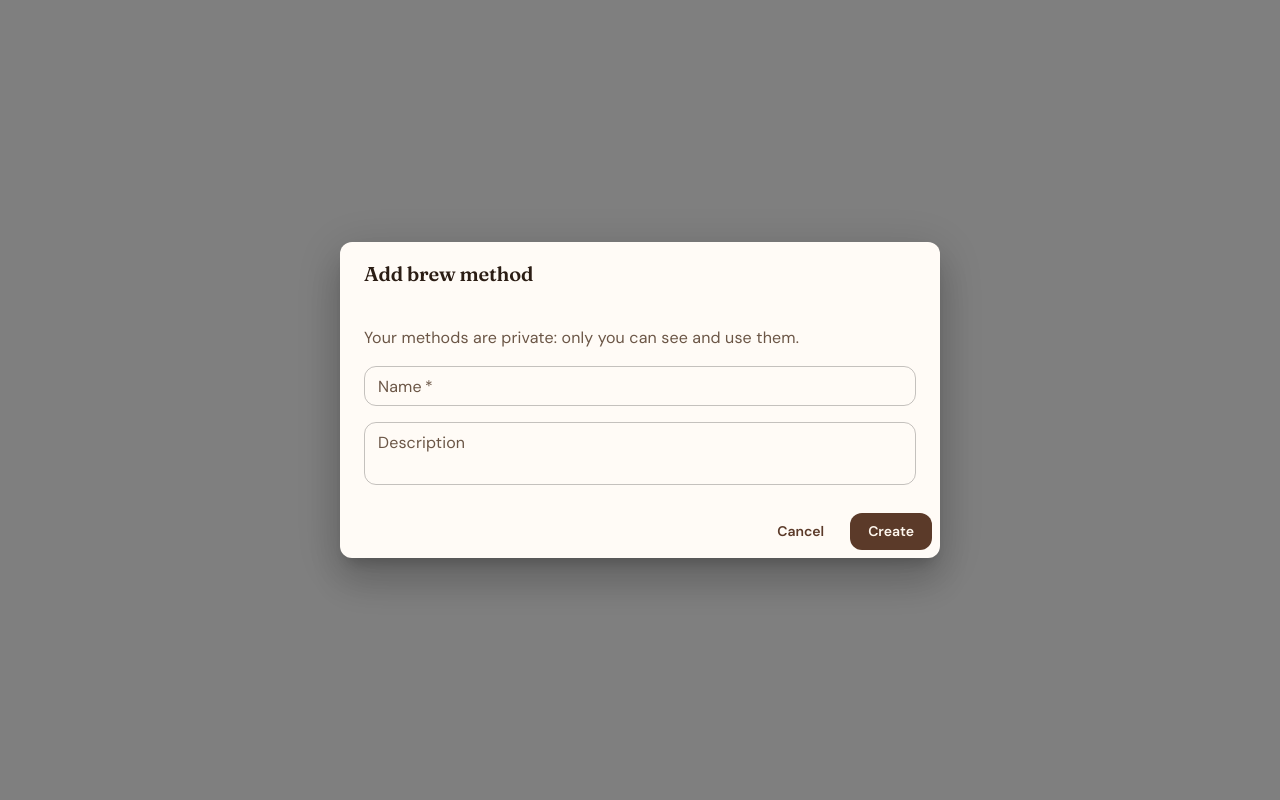
Test: BrewMethodFormDialog › shows a duplicate-name error on a 409
Step 1. Type "My Moka" into the field labelled "Name *" → (640, 386), box [364, 366, 916, 406]
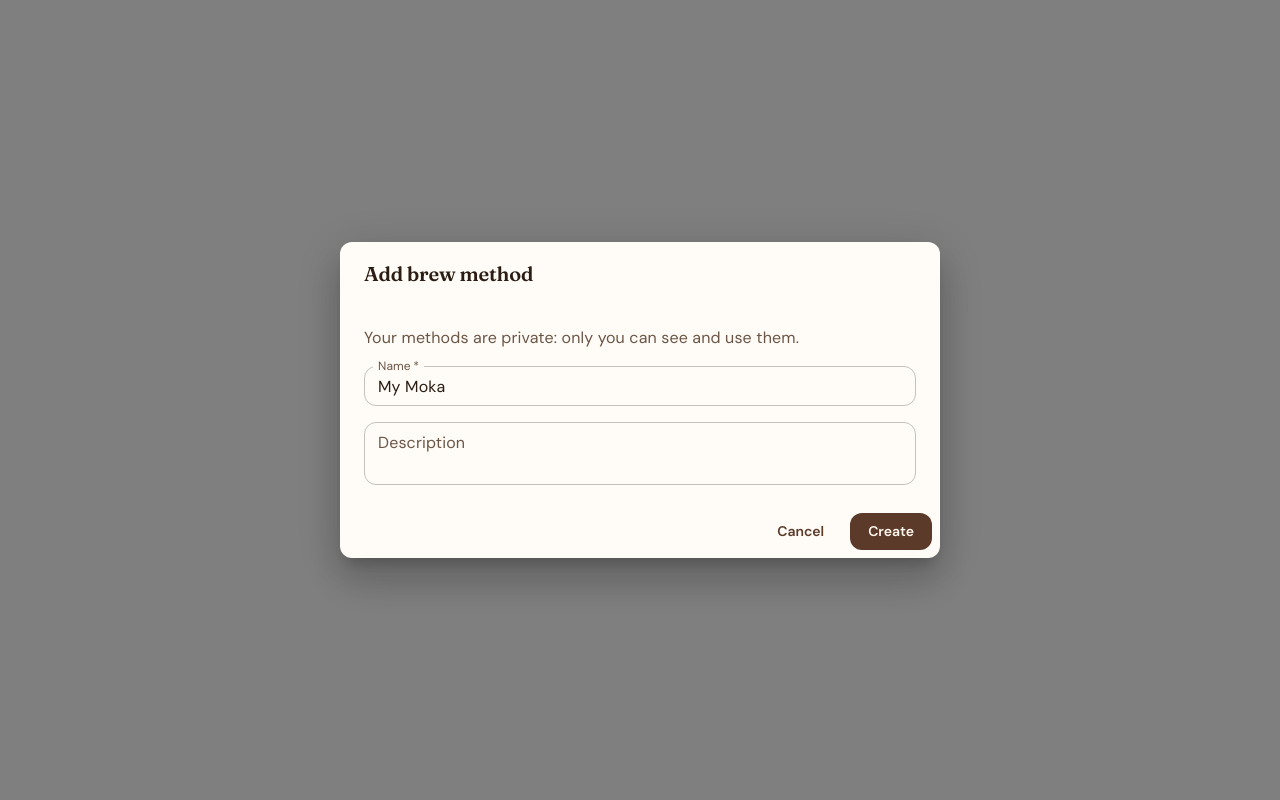
Step 2. Click the button "Create" → (891, 532), box [850, 513, 932, 550]
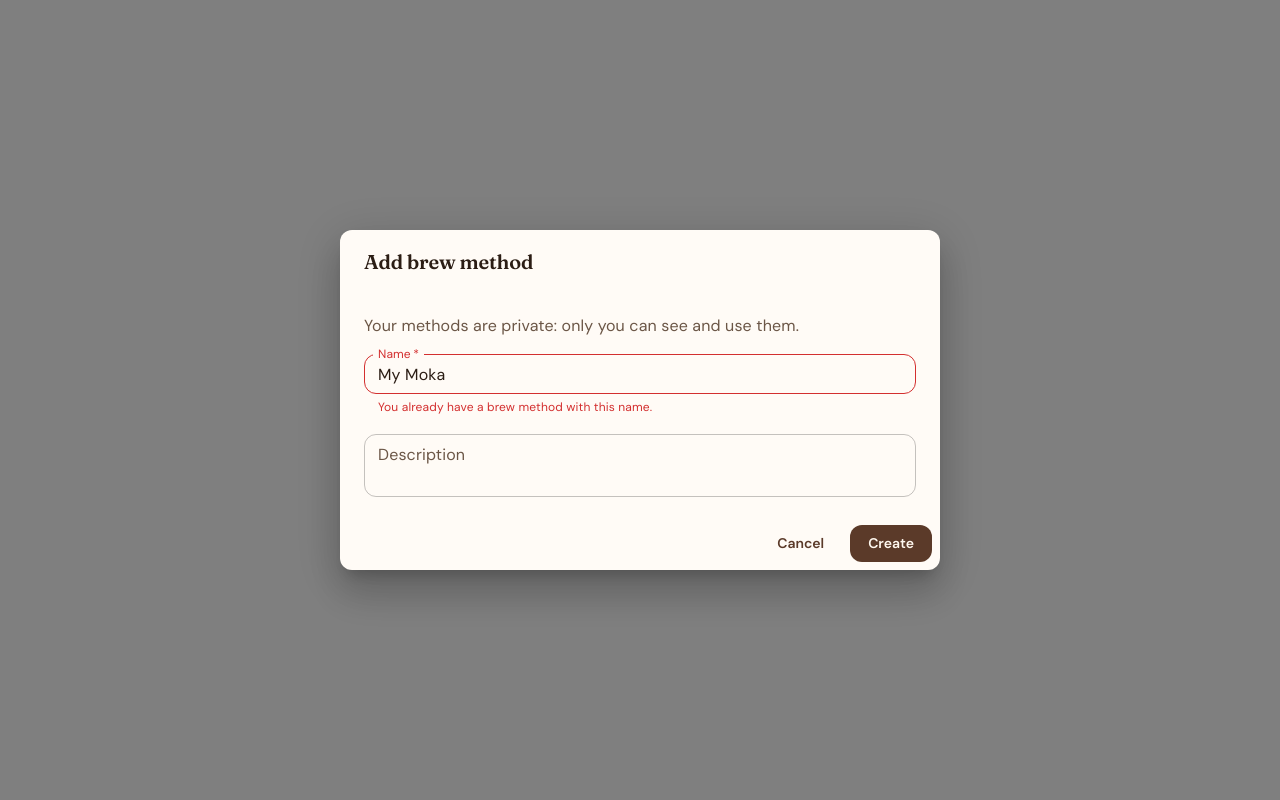
Result: the text "You already have a brew method with this name." is shown at [378, 399, 652, 415]
